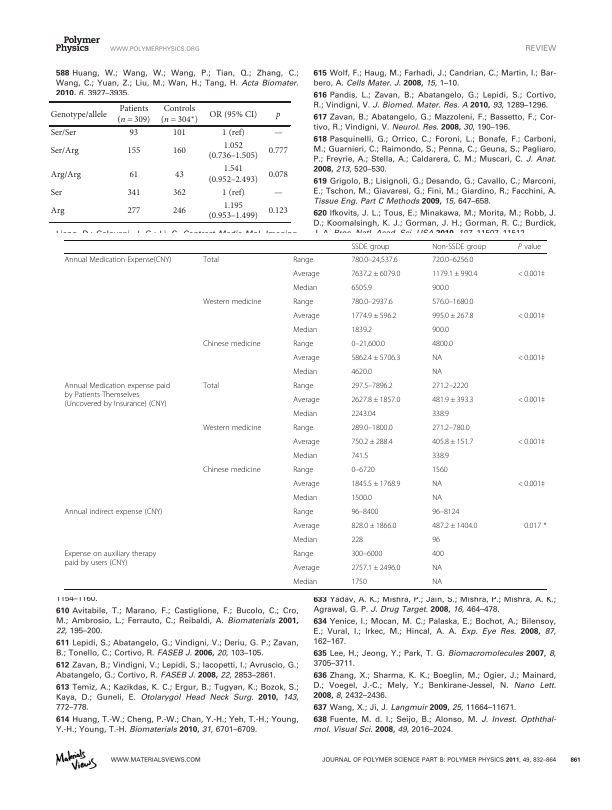borderless: (63, 238, 547, 589), (49, 100, 291, 223)
cell: (64, 381, 171, 409), (64, 549, 157, 568), (64, 255, 172, 265), (207, 141, 258, 162), (207, 164, 258, 185), (207, 201, 258, 222), (64, 507, 163, 517), (160, 104, 199, 125), (116, 104, 151, 125), (49, 109, 107, 120), (202, 297, 262, 307), (202, 423, 262, 433), (202, 339, 261, 349), (202, 465, 261, 475), (208, 109, 258, 120), (350, 269, 401, 279), (350, 353, 401, 363), (350, 395, 401, 405), (350, 479, 401, 489), (350, 563, 401, 573), (431, 242, 487, 251), (350, 255, 399, 265), (431, 269, 478, 279), (350, 311, 397, 321), (350, 521, 397, 531), (431, 521, 478, 531), (350, 437, 394, 447), (431, 255, 474, 265), (350, 297, 393, 307), (431, 297, 474, 307), (431, 311, 474, 321), (350, 381, 393, 391), (431, 395, 474, 405), (350, 423, 393, 433), (431, 437, 474, 447), (431, 423, 470, 433), (431, 381, 469, 391), (49, 169, 82, 180), (350, 242, 390, 251), (350, 339, 386, 349), (350, 549, 383, 559), (49, 146, 79, 156), (517, 269, 546, 279), (517, 311, 546, 321), (517, 353, 546, 363), (517, 395, 546, 405), (517, 437, 546, 447), (517, 479, 546, 489), (350, 507, 379, 517), (431, 507, 460, 517), (292, 269, 320, 279), (292, 311, 320, 321), (292, 353, 320, 363), (292, 395, 320, 405), (292, 437, 320, 447), (292, 479, 320, 489), (292, 521, 320, 531), (292, 563, 320, 573), (49, 128, 77, 138), (350, 409, 377, 419), (292, 283, 318, 293), (292, 325, 318, 335), (292, 367, 318, 377), (292, 409, 318, 419), (292, 451, 318, 461), (350, 465, 376, 475), (292, 493, 318, 503), (292, 535, 318, 545), (292, 577, 318, 587), (523, 521, 547, 531), (221, 128, 245, 138), (221, 188, 245, 198), (267, 169, 288, 180), (267, 206, 288, 217), (350, 283, 373, 293), (350, 325, 373, 335), (431, 339, 454, 349), (350, 367, 373, 377), (350, 493, 373, 503), (517, 242, 542, 251), (292, 255, 314, 265), (292, 297, 314, 307), (292, 339, 314, 349), (292, 381, 314, 391), (292, 423, 314, 433), (292, 465, 314, 475), (292, 507, 314, 517), (292, 549, 314, 559), (267, 146, 288, 156), (431, 283, 450, 293), (431, 325, 450, 335), (431, 409, 450, 419), (350, 451, 369, 461), (431, 451, 450, 461), (202, 255, 220, 265), (202, 381, 220, 391), (431, 465, 449, 475), (350, 577, 368, 587), (49, 206, 65, 217), (126, 206, 141, 217), (172, 206, 187, 217), (172, 128, 187, 138), (126, 146, 141, 156), (172, 146, 187, 156), (126, 188, 141, 198), (172, 188, 187, 198), (350, 535, 364, 545), (431, 549, 445, 559), (49, 188, 63, 198), (128, 169, 139, 180), (431, 353, 443, 363), (431, 367, 443, 377), (431, 479, 443, 489), (431, 493, 443, 503), (431, 563, 443, 573), (431, 577, 443, 587), (128, 128, 139, 138), (174, 169, 184, 180), (431, 535, 441, 545), (275, 111, 281, 120), (273, 132, 283, 136), (273, 192, 283, 196)
